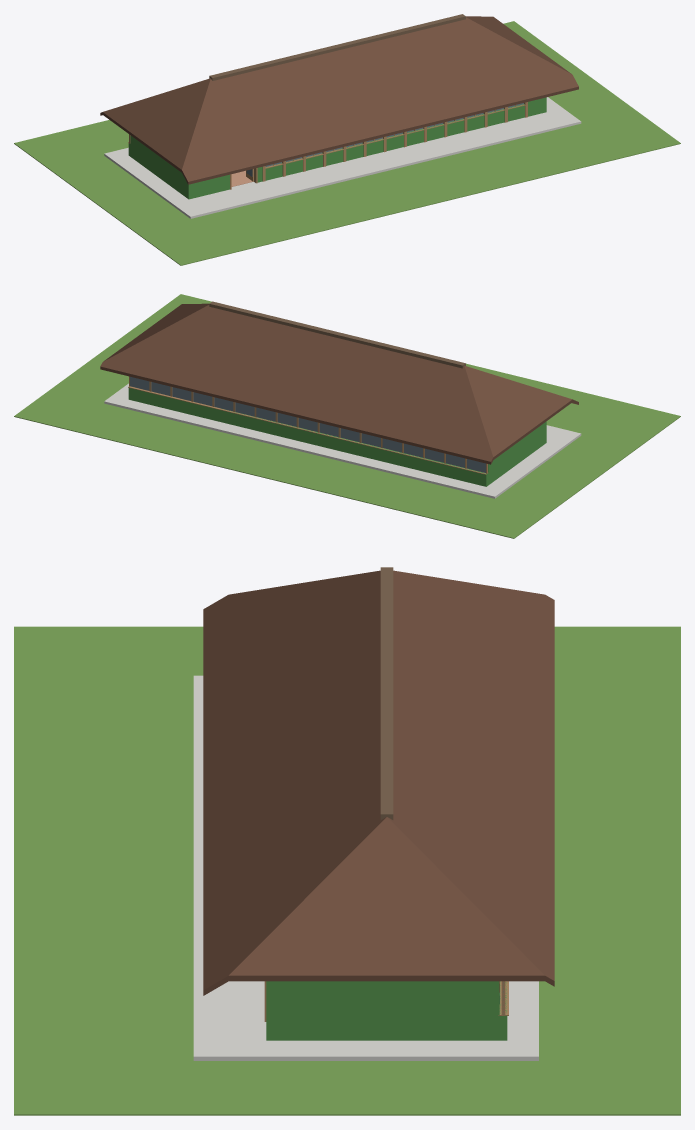
File: sala_profesores.glb
3 views of the same model, one above another, from view 1: azimuth 30°, elevation 25°; view 2: azimuth 150°, elevation 25°; view 3: azimuth 270°, elevation 25° (orthographic). The views are drawn at different scales.
Visible parts, largest first — view 1: Sala de profesores; view 2: Sala de profesores; view 3: Sala de profesores.
Boxes of the visible parts, x1,y1,x2,y2 form: Sala de profesores: [14, 14, 680, 265]; Sala de profesores: [14, 294, 680, 538]; Sala de profesores: [14, 567, 680, 1115].
Bounding box in the file's own units: 36.58 × 6.33 × 21.14.
